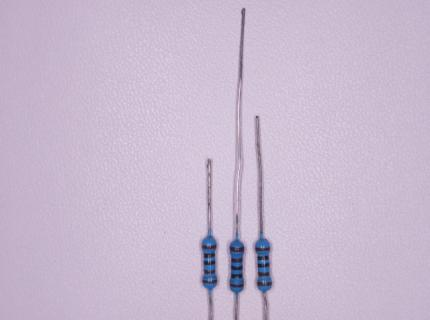Black band: (231, 265, 243, 271), (231, 273, 243, 279), (258, 262, 270, 267), (258, 256, 269, 261), (204, 253, 215, 258), (204, 261, 216, 265)
Brown band: (230, 246, 244, 252), (255, 247, 270, 252), (257, 281, 272, 286), (202, 279, 217, 284), (202, 244, 216, 249), (230, 283, 244, 288), (204, 269, 215, 275), (258, 272, 270, 277), (231, 258, 243, 262)
